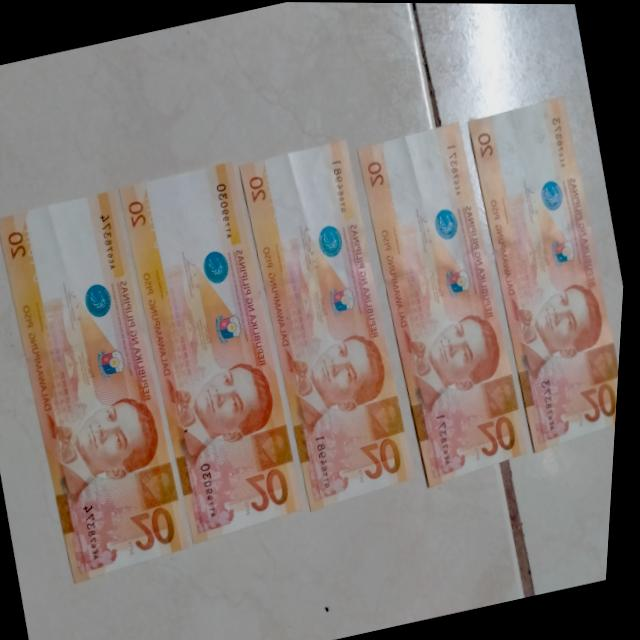concealed_value: (363, 394, 412, 442), (254, 423, 302, 471)
see_through_mark: (253, 161, 290, 233)
serial_number: (324, 153, 358, 218), (545, 112, 575, 170), (313, 430, 341, 491), (540, 376, 569, 434)
value: (246, 459, 307, 523), (358, 431, 414, 490)
value_watermark: (401, 141, 421, 159), (280, 159, 300, 176)
watermark: (151, 188, 236, 264)
